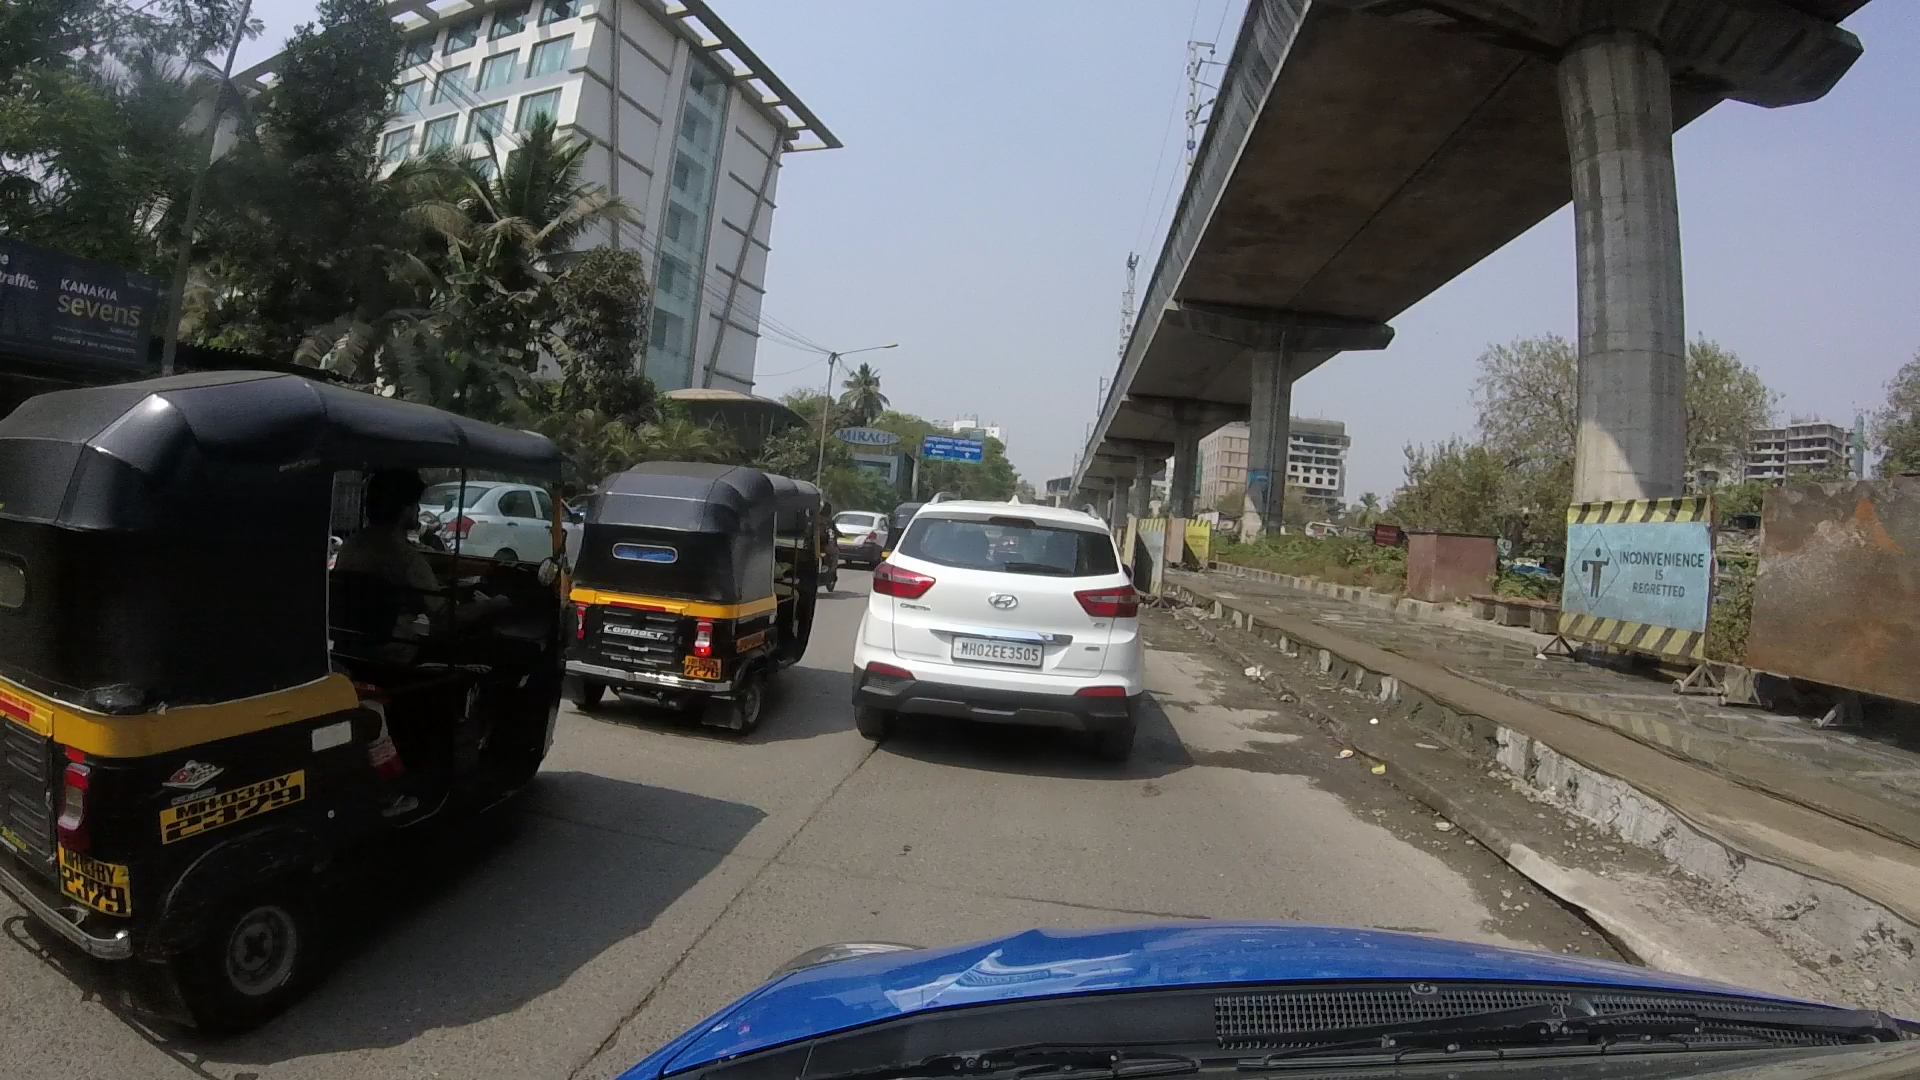car: (833, 484, 1168, 745)
rickshaw: (15, 340, 574, 1025), (524, 436, 845, 728)
